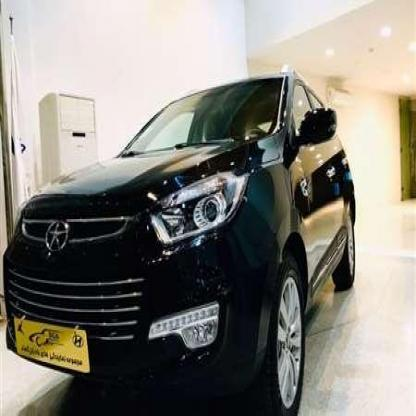Car: (0, 55, 364, 416)
